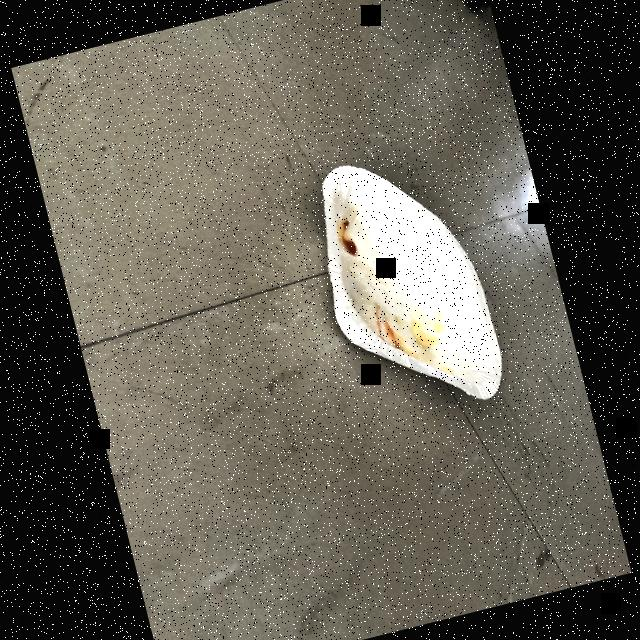cardboard_bowl: (291, 125, 517, 436)
